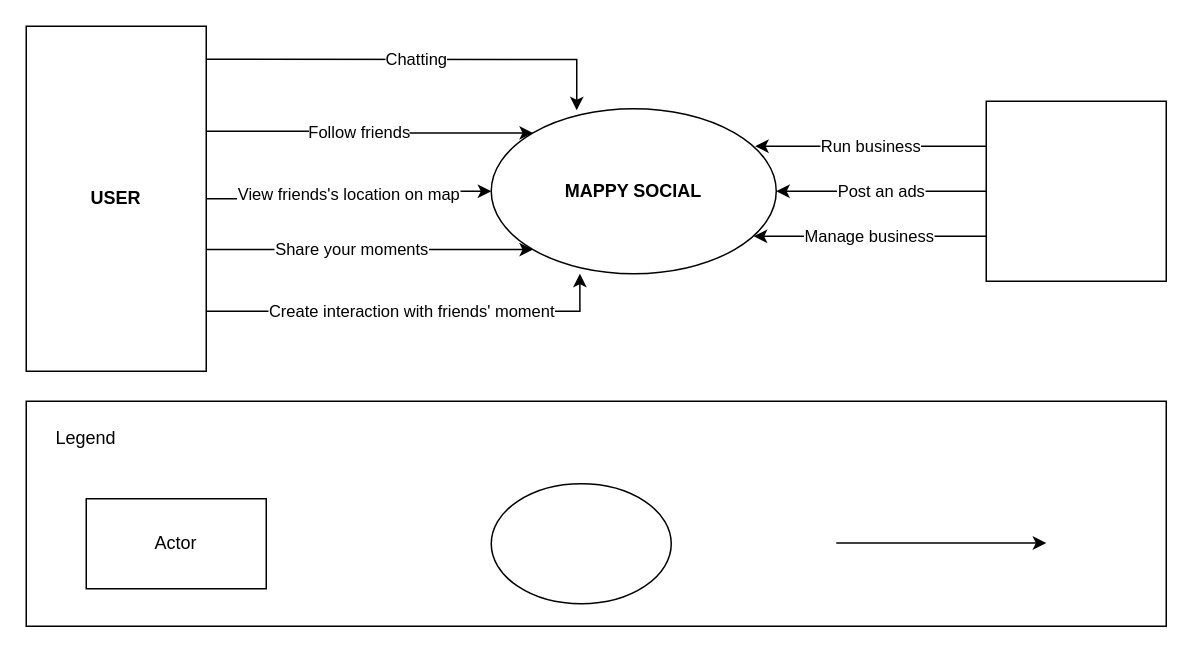
This 1193x653 diagram has some shape labels left out. Here are the shapes that lost their labels. From the top down, the centre of each, then its label:
At (x=1075, y=190): "ENTERPRISE".
At (x=580, y=543): "System".
